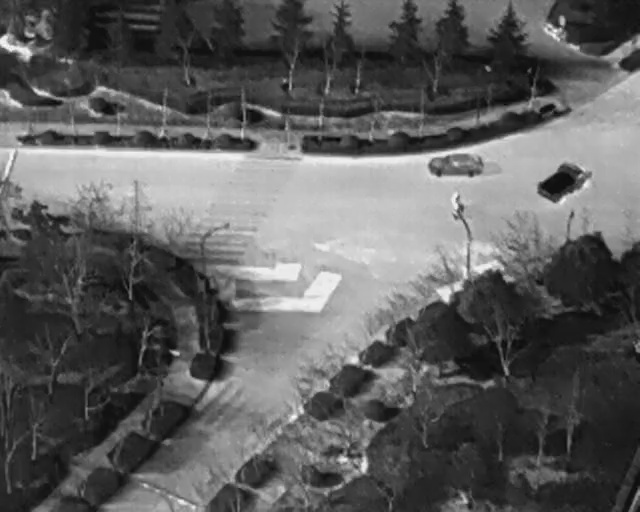Car: (427, 152, 485, 178)
OtherVehicle: (530, 150, 598, 211)
